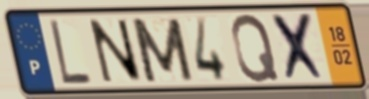4: (191, 14, 230, 84)
L: (47, 17, 95, 86)
M: (128, 16, 197, 85)
N: (85, 17, 146, 85)
Q: (229, 11, 282, 84)
X: (268, 11, 330, 84)
